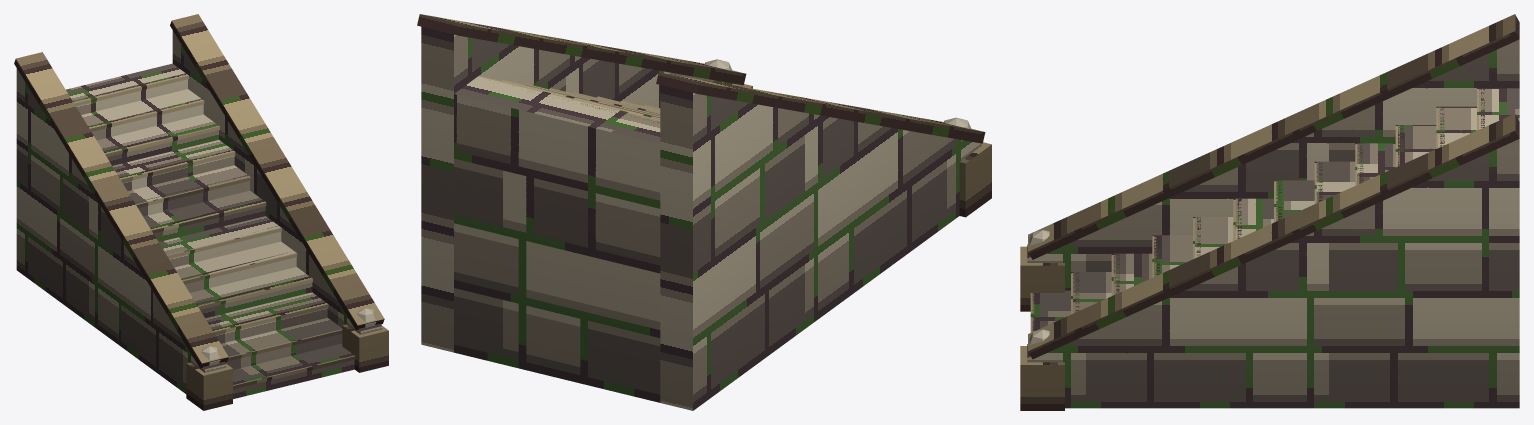
The model's file is scene_stair_terrace.glb.
3 renders of one model, left to right at view 1: azimuth 30°, elevation 25°; view 2: azimuth 150°, elevation 25°; view 3: azimuth 270°, elevation 25°, orthographic. The views are drawn at different scales.
Parts seen in each view (by area): view 1: scene_stair_terrace; view 2: scene_stair_terrace; view 3: scene_stair_terrace.
Part boxes in pixels (box(x1,y1,x2,y2)): scene_stair_terrace: box(14, 14, 388, 410); scene_stair_terrace: box(417, 14, 991, 410); scene_stair_terrace: box(1020, 14, 1519, 410).
Bounding box in the file's own units: 2.76 × 3.04 × 4.92.
Materials: 2 (1 with a texture image).
